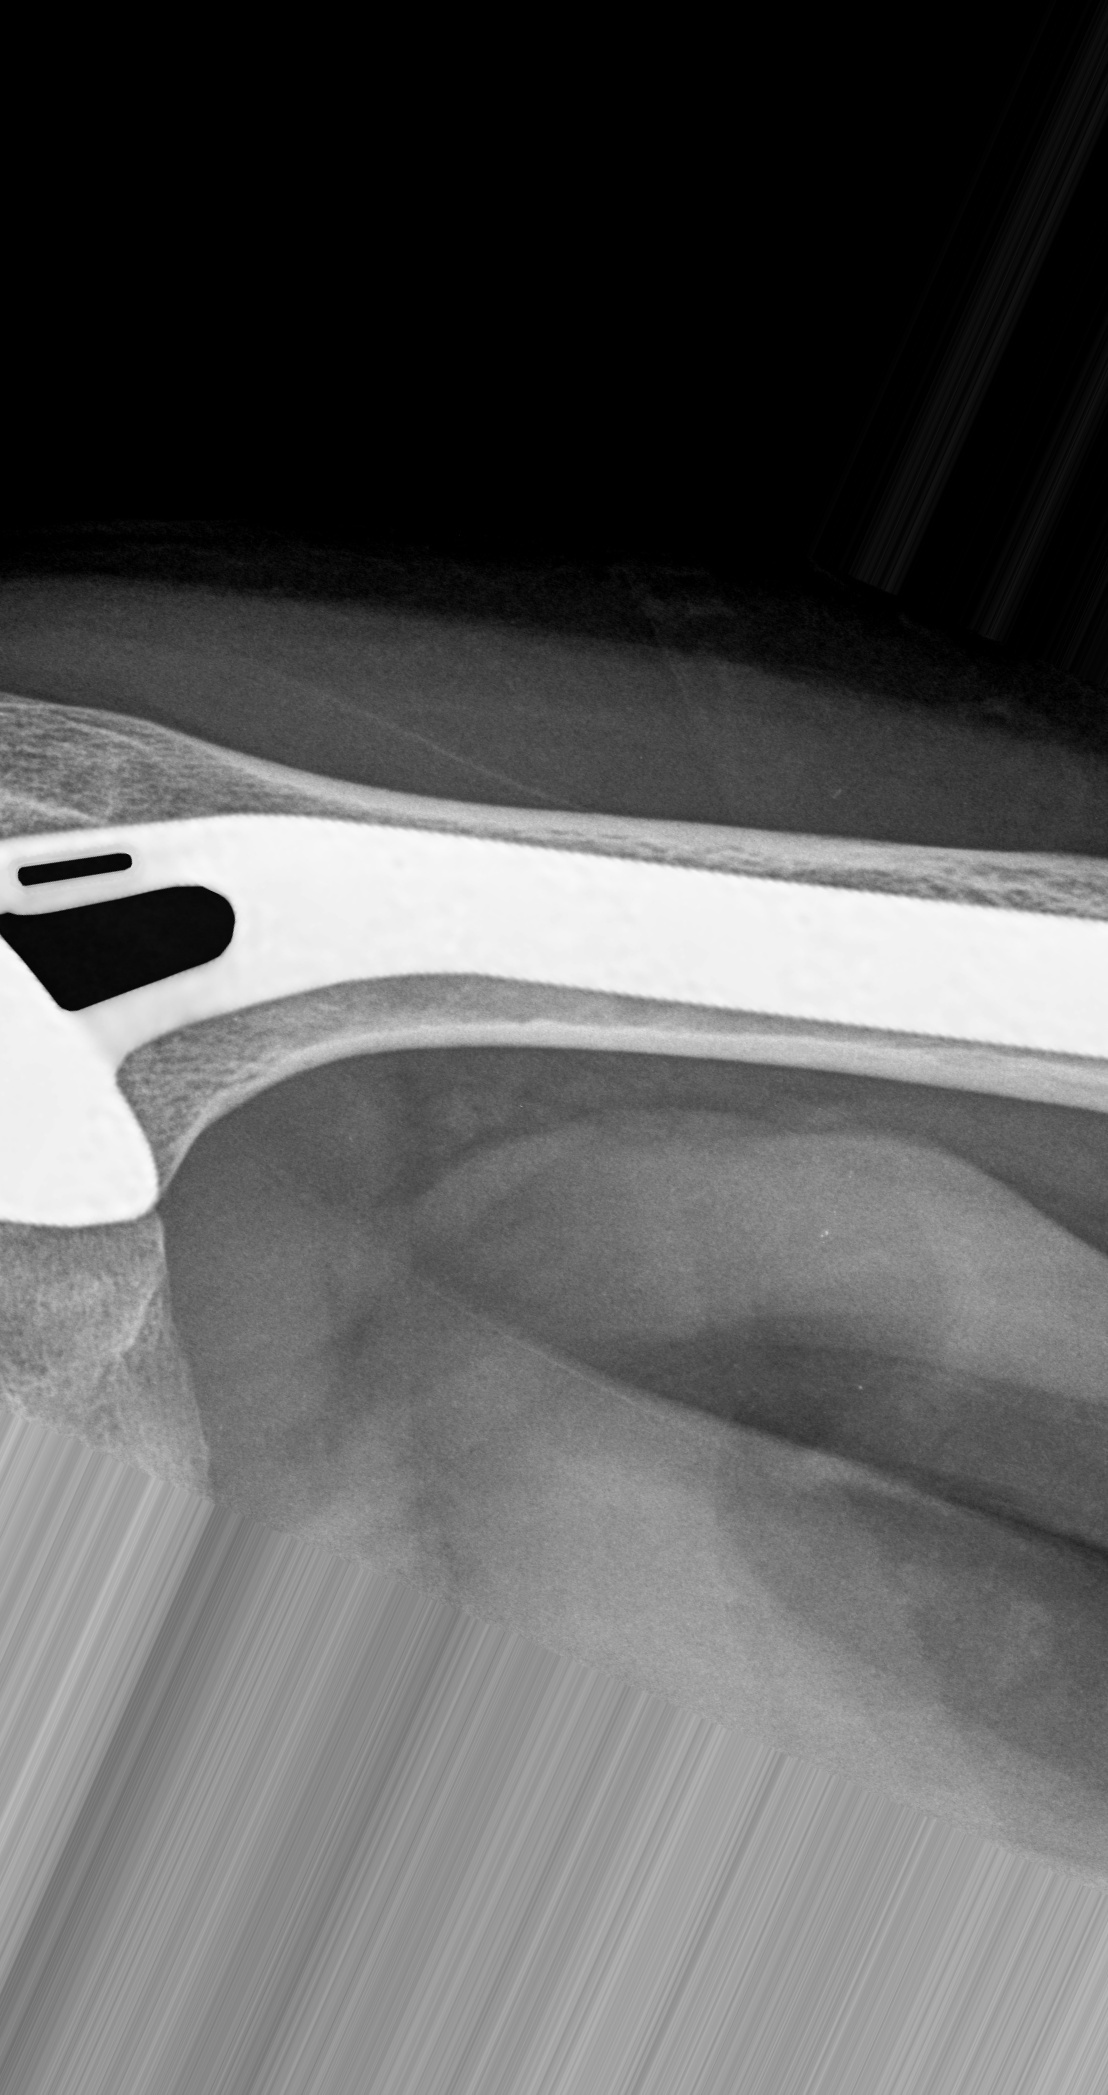Shoulder - AequalisFracture - Tornier: (1, 758, 265, 1233)
